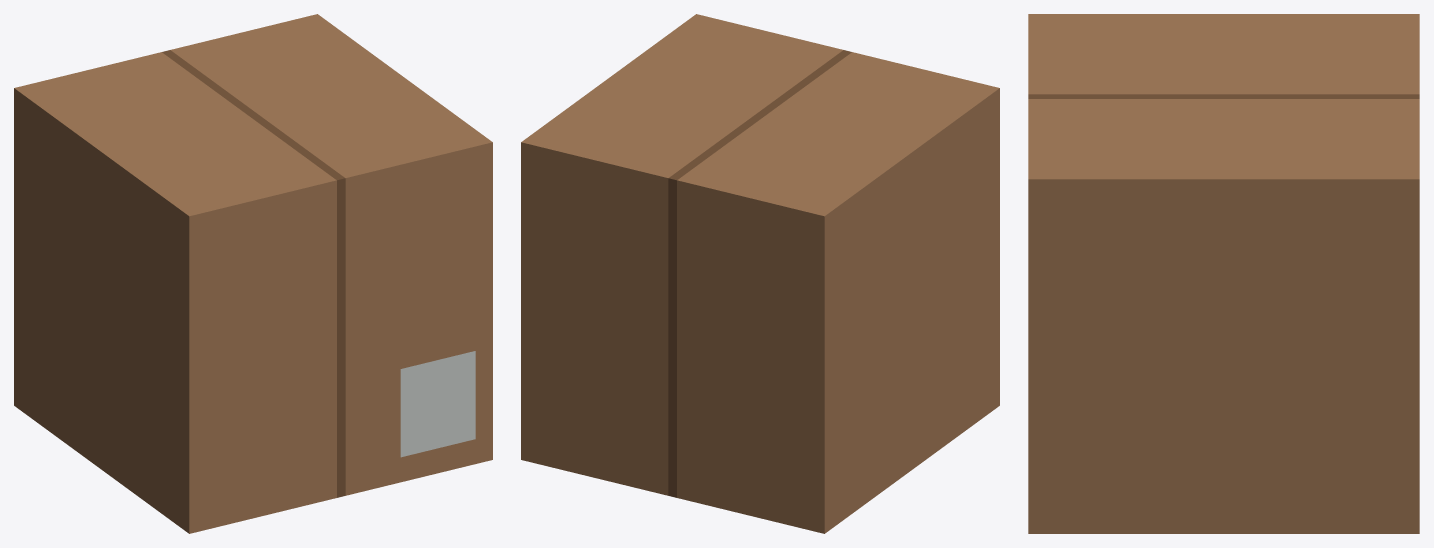
Rendered from CardboardBox_02.glb.
The picture shows the model from 3 angles, left to right: view 1: azimuth 30°, elevation 25°; view 2: azimuth 150°, elevation 25°; view 3: azimuth 270°, elevation 25°; orthographic projection. The views are drawn at different scales.
Parts seen in each view (by area): view 1: CardBoardBox_02; view 2: CardBoardBox_02; view 3: CardBoardBox_02.
Part boxes in pixels (x1=…): CardBoardBox_02: x1=14, y1=14, x2=492, y2=533; CardBoardBox_02: x1=521, y1=14, x2=999, y2=533; CardBoardBox_02: x1=1028, y1=14, x2=1419, y2=533.
Size of what is drawn, in the model's own units: 0.9571 by 0.9571 by 0.9571.
Materials: 1 (1 with a texture image).
